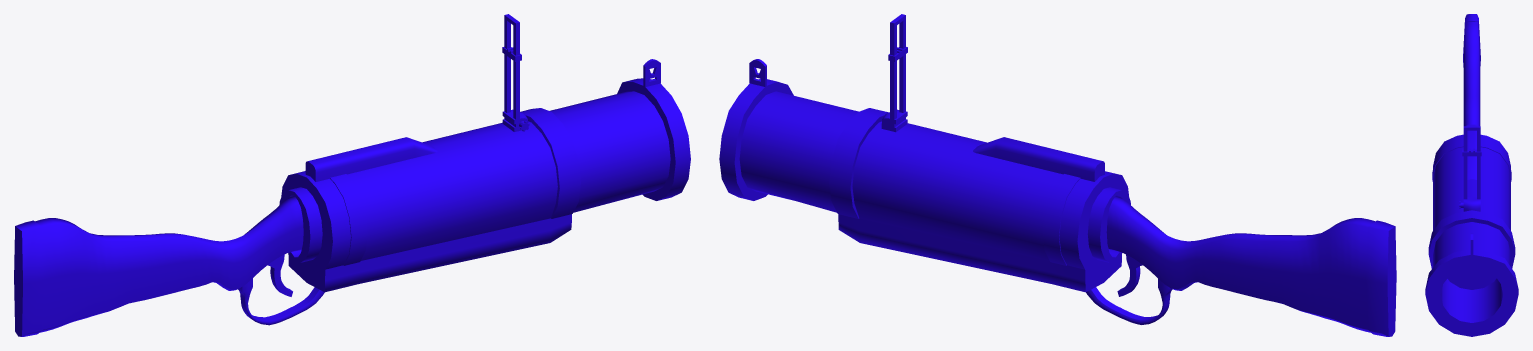
The model's file is Grenade_Launcher.FBX.
3 views of the same model, side by side, from view 1: azimuth 30°, elevation 25°; view 2: azimuth 150°, elevation 25°; view 3: azimuth 270°, elevation 25° (orthographic). The views are drawn at different scales.
Parts seen in each view (by area): view 1: Barrel, Stock, Random piece, Visier ding 3, Trigger; view 2: Barrel, Stock, Random piece, Visier ding 3, Trigger; view 3: Barrel, Stock, Visier ding 3, Random piece, Visier ding.
Part boxes in pixels (x1=…): Barrel: x1=279, y1=78, x2=690, y2=292; Stock: x1=14, y1=196, x2=303, y2=336; Random piece: x1=305, y1=137, x2=437, y2=181; Visier ding 3: x1=502, y1=14, x2=528, y2=131; Trigger: x1=238, y1=254, x2=324, y2=325; Barrel: x1=719, y1=78, x2=1130, y2=292; Stock: x1=1106, y1=196, x2=1396, y2=336; Random piece: x1=973, y1=137, x2=1104, y2=181; Visier ding 3: x1=881, y1=14, x2=907, y2=132; Trigger: x1=1086, y1=254, x2=1172, y2=324; Barrel: x1=1425, y1=134, x2=1518, y2=336; Stock: x1=1463, y1=14, x2=1480, y2=126; Visier ding 3: x1=1462, y1=126, x2=1481, y2=211; Random piece: x1=1465, y1=124, x2=1478, y2=179; Visier ding: x1=1470, y1=233, x2=1473, y2=254.
Bounding box in the file's own units: 1191 × 435 × 201.
